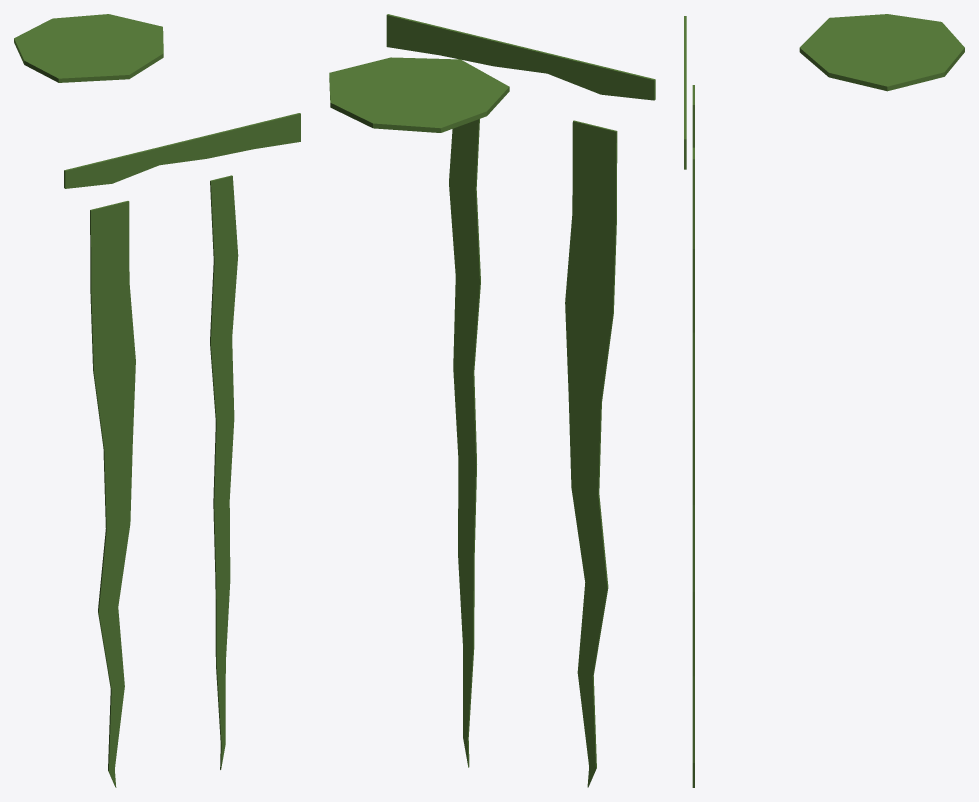
The model's file is Rempart_P1_Mousse_Pilier_A.fbx.
3 views of the same model, side by side, from view 1: azimuth 30°, elevation 25°; view 2: azimuth 150°, elevation 25°; view 3: azimuth 270°, elevation 25° (orthographic). The views are drawn at different scales.
Parts seen in each view (by area): view 1: P1_Mousse_Pilier_A; view 2: P1_Mousse_Pilier_A; view 3: P1_Mousse_Pilier_A.
Boxes of the visible parts, x1,y1,x2,y2 form: P1_Mousse_Pilier_A: [14, 14, 300, 787]; P1_Mousse_Pilier_A: [329, 14, 655, 787]; P1_Mousse_Pilier_A: [684, 14, 964, 787].
Bounding box in the file's own units: 5.7 × 15.48 × 5.48.
